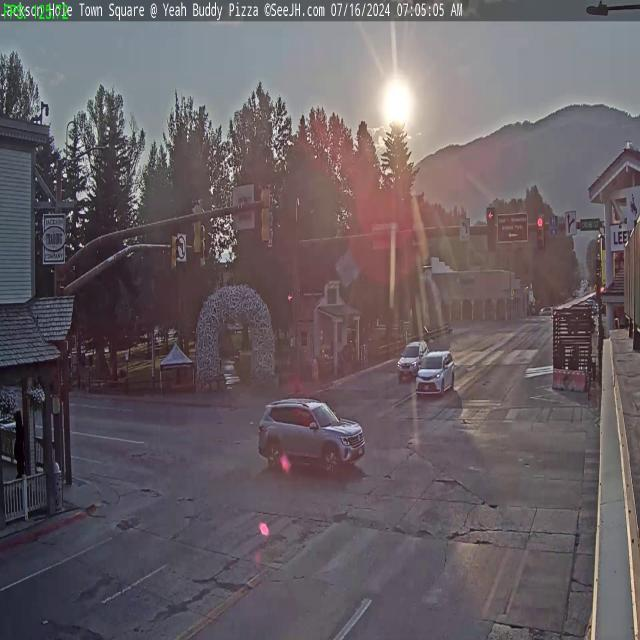minivan: (416, 348, 454, 396)
suv: (258, 394, 368, 474), (394, 337, 428, 378)
traffic light: (260, 182, 274, 245), (190, 200, 203, 256), (486, 208, 497, 252), (536, 214, 546, 249), (172, 231, 177, 274)
